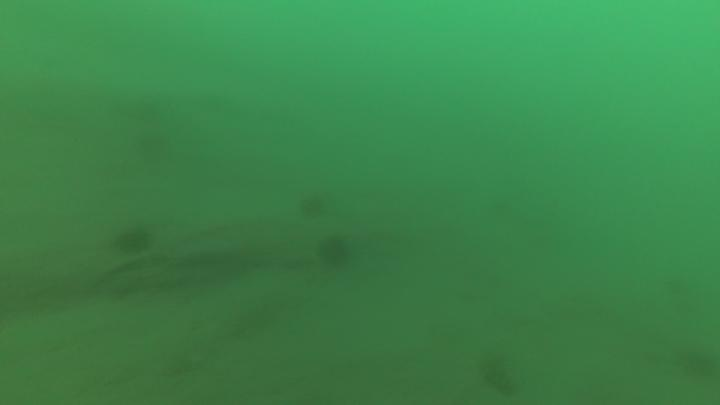echinus: (476, 350, 522, 399), (671, 342, 719, 383), (132, 127, 175, 169), (111, 222, 155, 259), (314, 232, 354, 272), (295, 189, 330, 221)
